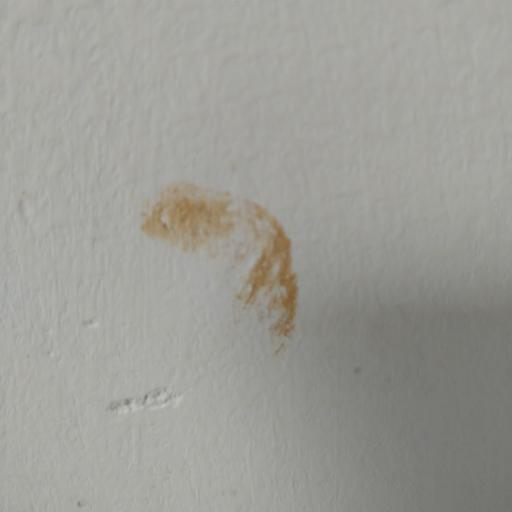stain: (136, 162, 302, 361)
